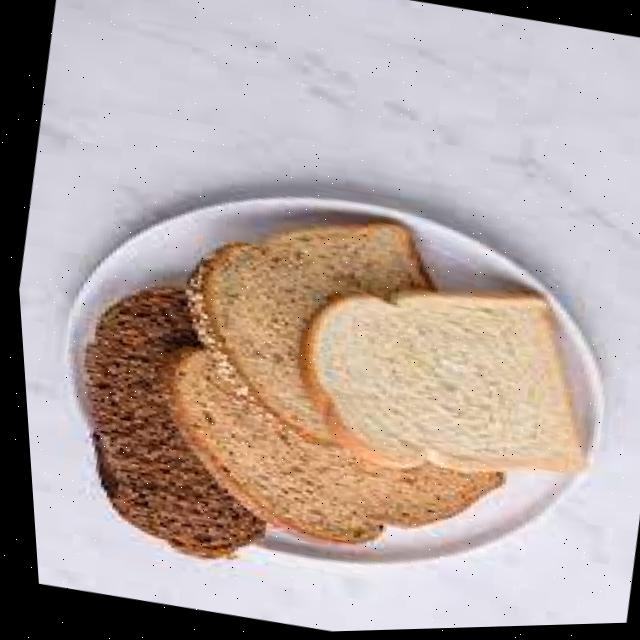Bread: (170, 350, 493, 544), (182, 225, 425, 440), (308, 294, 576, 475)
